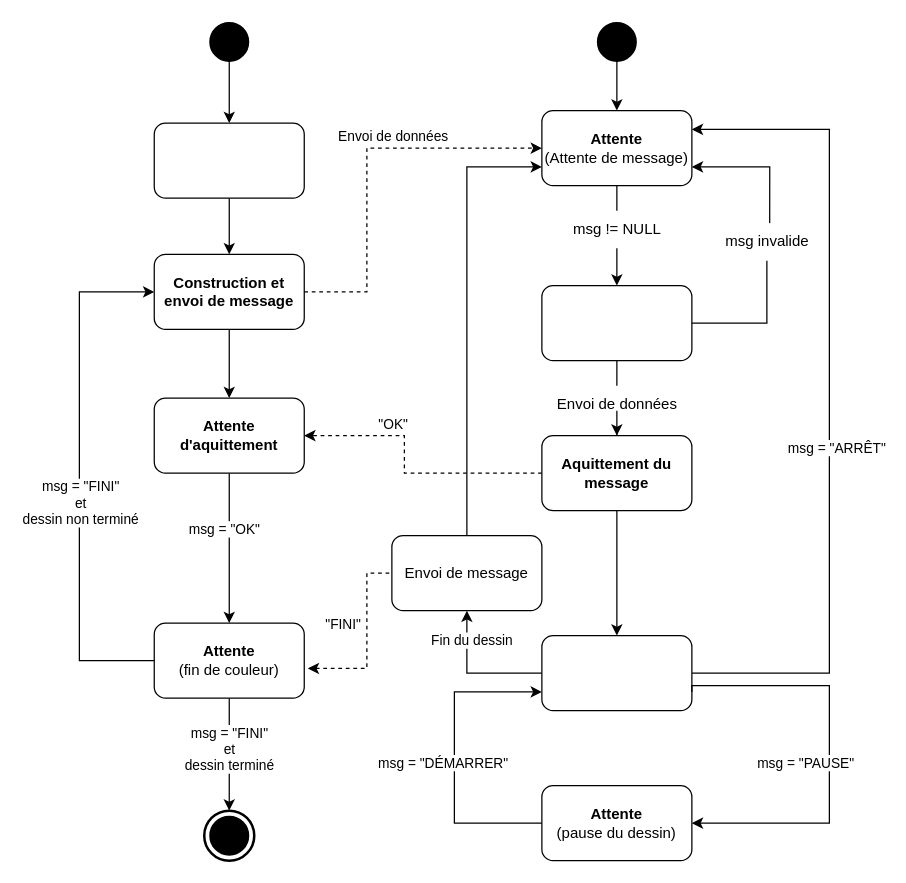
Some shapes in this 906 by 883 pixel diagram are drawn without their labels. The shapes that lost their labels are listed below. From the top down, each one's centre as x and y in pixels, then its label:
the point at 228,160: Traitement d'image
the point at 616,322: Analyse du message
the point at 616,672: Dessin de la couleur
